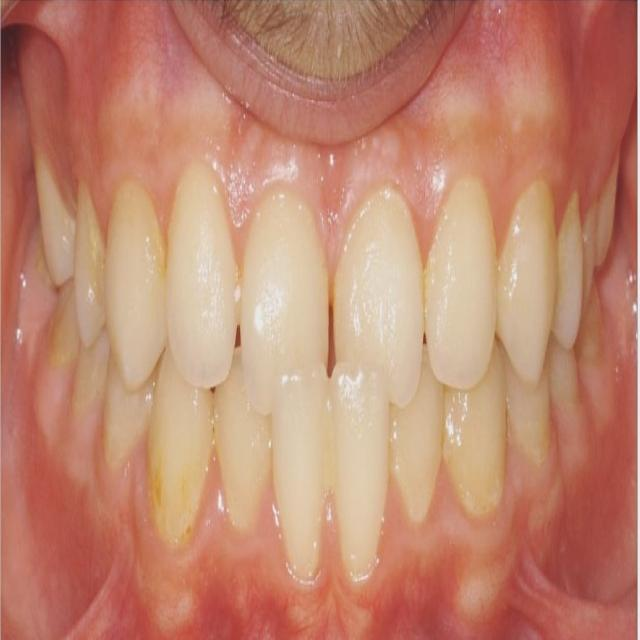tooth: (427, 178, 496, 383), (105, 182, 166, 392), (257, 208, 327, 378), (356, 212, 422, 390), (276, 388, 336, 582), (174, 173, 229, 380), (332, 375, 387, 580), (162, 371, 211, 561), (447, 385, 513, 517), (503, 188, 551, 362), (214, 387, 268, 531), (107, 370, 167, 463), (392, 402, 445, 506), (33, 151, 73, 265), (75, 183, 106, 330), (560, 197, 586, 344)
